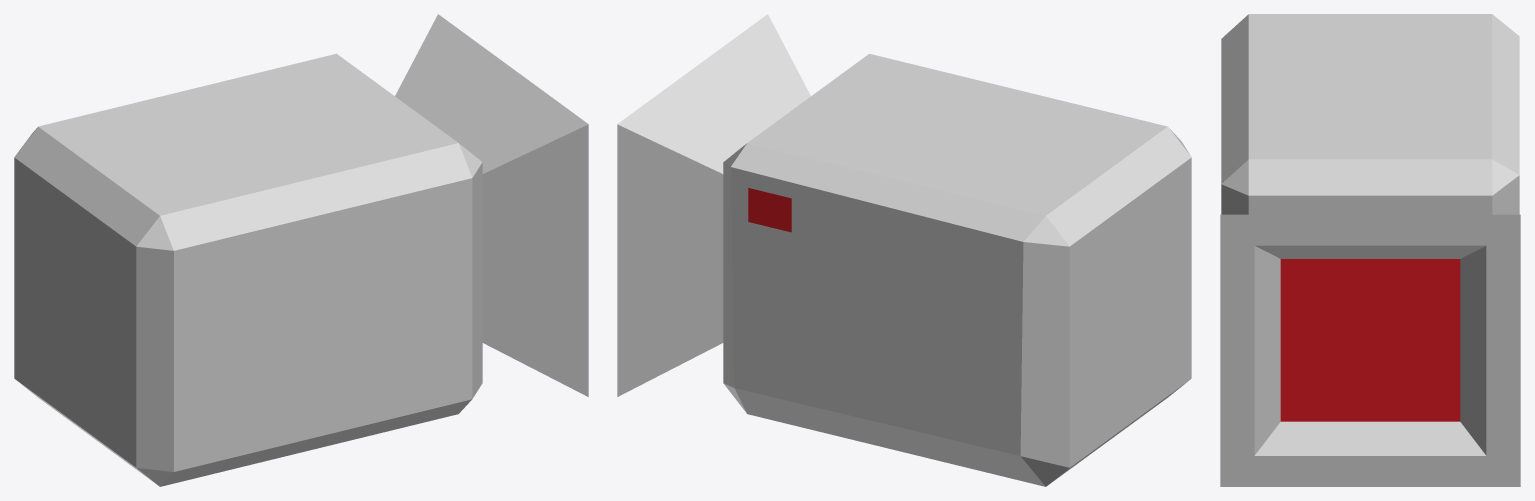
File: Cam.fbx
3 renders of one model, left to right at view 1: azimuth 30°, elevation 25°; view 2: azimuth 150°, elevation 25°; view 3: azimuth 270°, elevation 25°, orthographic.
Visible parts, largest first — view 1: Cube; view 2: Cube; view 3: Cube.
Part boxes in pixels (x1=…): Cube: x1=14, y1=14, x2=588, y2=486; Cube: x1=617, y1=14, x2=1191, y2=486; Cube: x1=1220, y1=14, x2=1520, y2=486.
Bounding box in the file's own units: 338 × 201 × 201.
